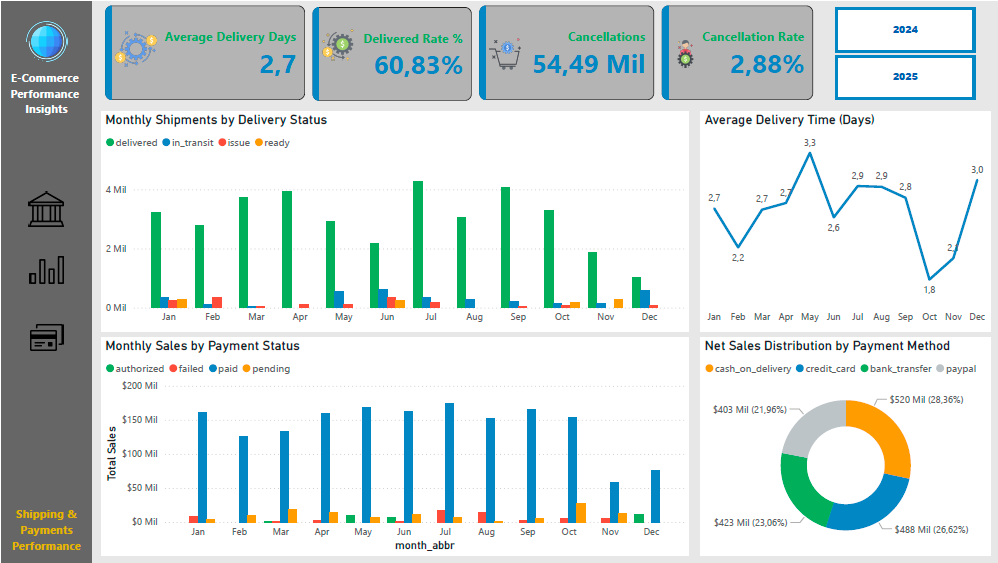

This screenshot's page, from the dashboard's own definition file:
{"tool":"powerbi","page":{"name":"Shipping & Payments Performance","canvas":[1280,720],"ordinal":2},"visuals":[{"type":"lineChart","title":"Average Delivery Time (Days)","fields":{"Category":["dCalendar.month_abbr"],"Y":["indicators.Average Delivery Days"]},"box":[897.3,141,371.5,282],"z":0},{"type":"clusteredColumnChart","title":"Monthly Shipments by Delivery Status","fields":{"Category":["dCalendar.month_abbr"],"Series":["shipments.shipment_status"],"Y":["Sum(shipments.shipment_id)"]},"box":[127.7,141,753.7,282],"z":1000},{"type":"donutChart","title":"Net Sales Distribution by Payment Method","fields":{"Category":["payments.payment_method"],"Y":["indicators.Net Sales"]},"box":[897.3,430.9,371.5,280.2],"z":2000},{"type":"clusteredColumnChart","title":"Monthly Sales by Payment Status","fields":{"Category":["dCalendar.month_abbr"],"Series":["payments.payment_status"],"Y":["indicators.Total Sales"]},"box":[127.7,430.9,753.7,280.2],"z":3000},{"type":"shape","box":[0,0,115.3,720.9],"z":4000},{"type":"cardVisual","fields":{"Data":["indicators.Average Delivery Days"]},"box":[127.7,0,266,130.7],"z":5000},{"type":"cardVisual","fields":{"Data":["indicators.Delivered Rate %"]},"box":[393.7,1.5,214.3,130.7],"z":6000},{"type":"cardVisual","fields":{"Data":["indicators.Cancellation Rate"]},"box":[842.2,0,203.7,130.7],"z":7000},{"type":"cardVisual","fields":{"Data":["indicators.Cancellations"]},"box":[608.1,0,234.1,130.7],"z":8000},{"type":"image","box":[30.1,237.6,54.1,55],"z":9000},{"type":"image","box":[31,317.4,53.2,54.1],"z":10000},{"type":"image","box":[31,405.2,53.2,51.4],"z":11000},{"type":"textbox","box":[0,82.5,115.3,74.5],"z":12000},{"type":"image","box":[25.7,19.5,63,63],"z":13000},{"type":"slicer","fields":{"Values":["dCalendar.year"]},"box":[1044.2,0,228.7,133],"z":14000},{"type":"textbox","box":[0,642.3,115.1,70],"z":15000}]}

Visuals, with their boxes on the page's 1280x720 design canvas (x1, y1, x2, y2). These are canvas units, not pixel positions in the 998x563 screenshot, which may show the page scaled, cropped or inside an application window:
"Average Delivery Time (Days)" lineChart: (left=897, top=141, right=1269, bottom=423)
"Monthly Shipments by Delivery Status" clusteredColumnChart: (left=128, top=141, right=881, bottom=423)
"Net Sales Distribution by Payment Method" donutChart: (left=897, top=431, right=1269, bottom=711)
"Monthly Sales by Payment Status" clusteredColumnChart: (left=128, top=431, right=881, bottom=711)
shape: (left=0, top=0, right=115, bottom=721)
cardVisual - indicators.Average Delivery Days: (left=128, top=0, right=394, bottom=131)
cardVisual - indicators.Delivered Rate %: (left=394, top=2, right=608, bottom=132)
cardVisual - indicators.Cancellation Rate: (left=842, top=0, right=1046, bottom=131)
cardVisual - indicators.Cancellations: (left=608, top=0, right=842, bottom=131)
image: (left=30, top=238, right=84, bottom=293)
image: (left=31, top=317, right=84, bottom=372)
image: (left=31, top=405, right=84, bottom=457)
textbox: (left=0, top=82, right=115, bottom=157)
image: (left=26, top=20, right=89, bottom=82)
slicer - dCalendar.year: (left=1044, top=0, right=1273, bottom=133)
textbox: (left=0, top=642, right=115, bottom=712)
